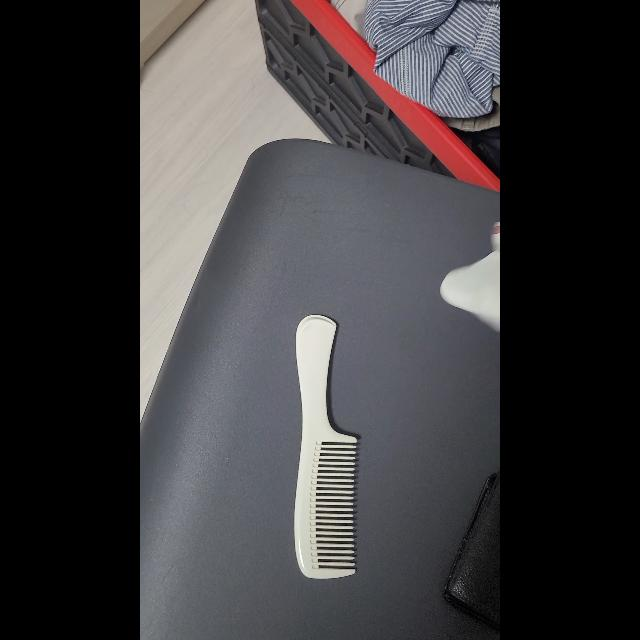COMB: (294, 315, 358, 579)
WALLET: (442, 472, 500, 632)
